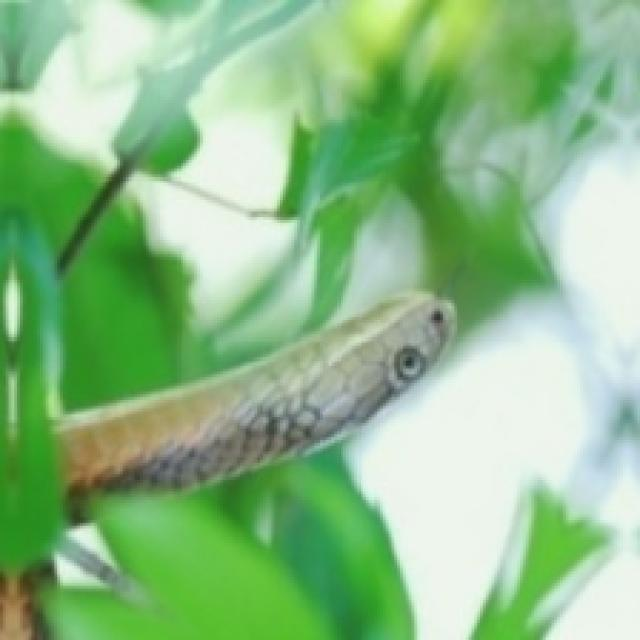king cobra: (57, 291, 451, 514)
